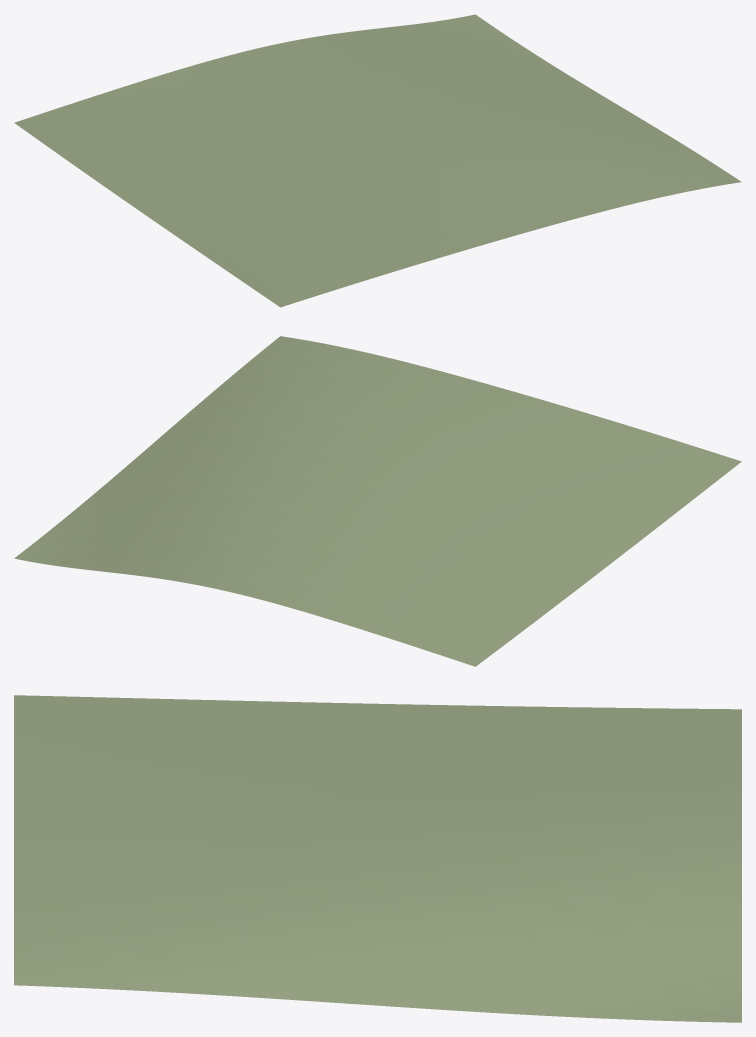
Rendered from desert-12-23.glb.
3 renders of one model, top to bottom at view 1: azimuth 30°, elevation 25°; view 2: azimuth 150°, elevation 25°; view 3: azimuth 270°, elevation 25°, orthographic. The views are drawn at different scales.
Visible parts, largest first — view 1: desert-12-23; view 2: desert-12-23; view 3: desert-12-23.
Boxes of the visible parts, x1,y1,x2,y2 form: desert-12-23: [14, 14, 741, 307]; desert-12-23: [14, 336, 741, 666]; desert-12-23: [14, 695, 741, 1022].
Bounding box in the file's own units: 512 × 34.05 × 512.
